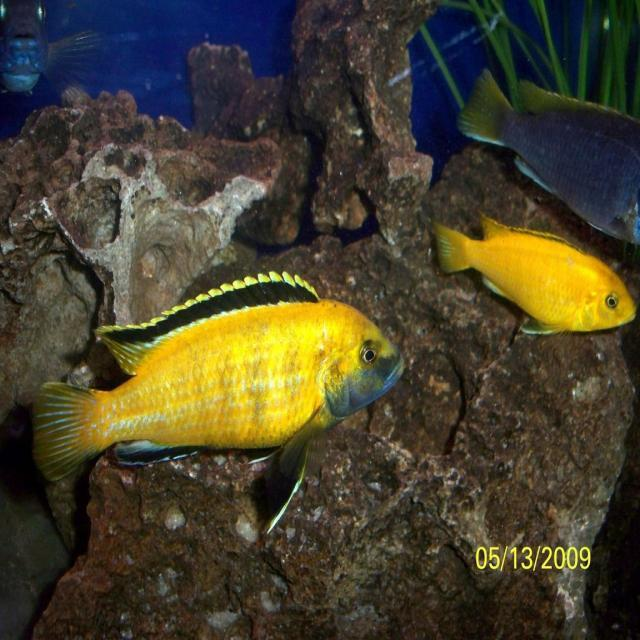YellowCichlid: (37, 272, 408, 509), (443, 195, 640, 333)
